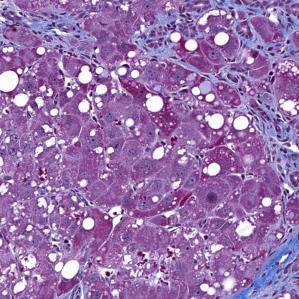fibrosis: (256, 106, 299, 194), (27, 10, 94, 51), (135, 22, 173, 61)
